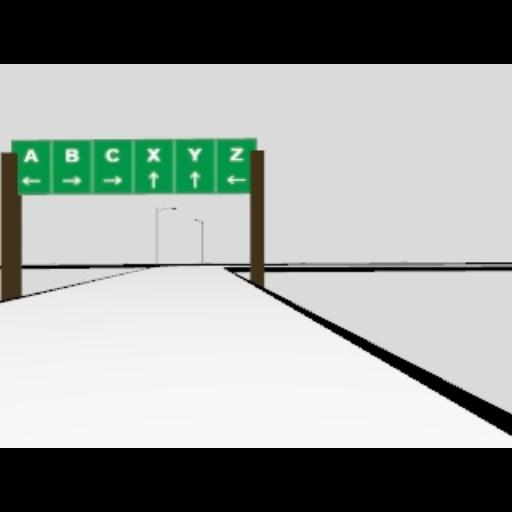A: (22, 147, 38, 161)
B: (64, 147, 78, 161)
C: (104, 147, 118, 161)
Left: (224, 172, 246, 184), (20, 176, 42, 186)
Right: (58, 174, 84, 186), (101, 174, 125, 184)
Straight: (188, 169, 200, 187), (148, 171, 158, 187)
X: (146, 147, 160, 161)
Y: (187, 147, 201, 161)
Z: (229, 146, 243, 160)
